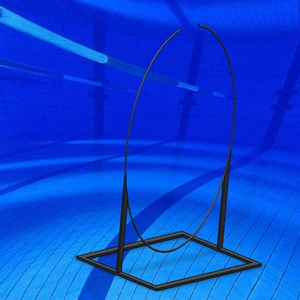circle: (75, 23, 263, 292)
